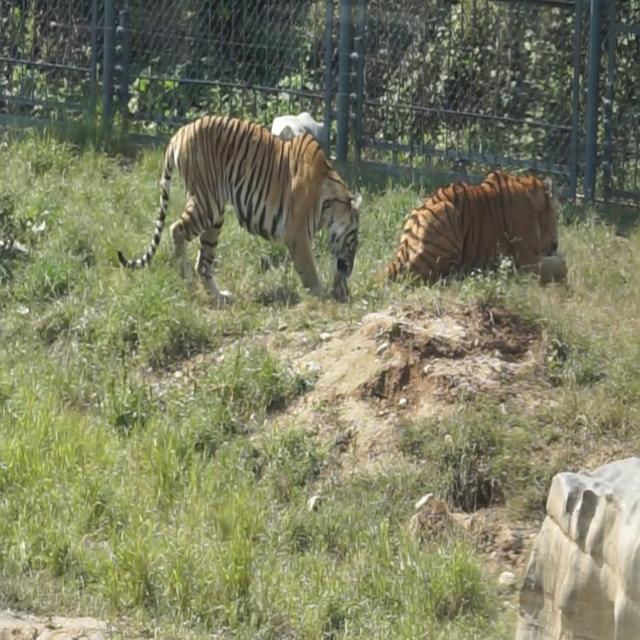Tiger: (121, 89, 362, 345), (383, 167, 568, 286)
